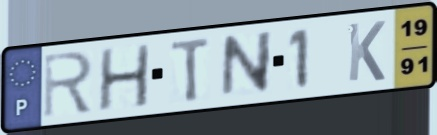1: (286, 26, 312, 90)
H: (95, 42, 152, 114)
K: (346, 18, 388, 84)
N: (218, 28, 276, 102)
R: (41, 48, 96, 121)
T: (168, 34, 213, 105)
